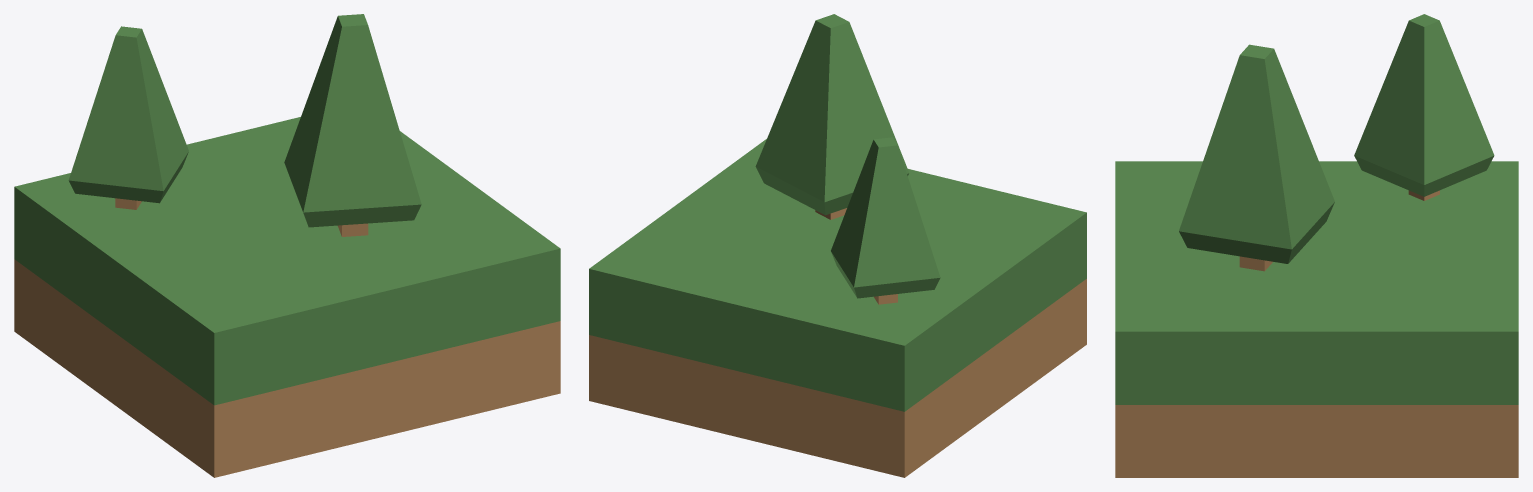
File: tile_063.obj
3 views of the same model, side by side, from view 1: azimuth 30°, elevation 25°; view 2: azimuth 150°, elevation 25°; view 3: azimuth 270°, elevation 25° (orthographic). The views are drawn at different scales.
Parts seen in each view (by area): view 1: tile_063, Component#2; view 2: tile_063, Component#2; view 3: tile_063, Component#2.
Boxes of the visible parts, x1,y1,x2,y2 form: tile_063: (14, 117, 560, 477); Component#2: (68, 14, 421, 236); tile_063: (589, 139, 1086, 477); Component#2: (755, 14, 940, 304); tile_063: (1115, 161, 1518, 477); Component#2: (1179, 14, 1494, 271).
Bounding box in the file's own units: 1 × 0.9802 × 1.
